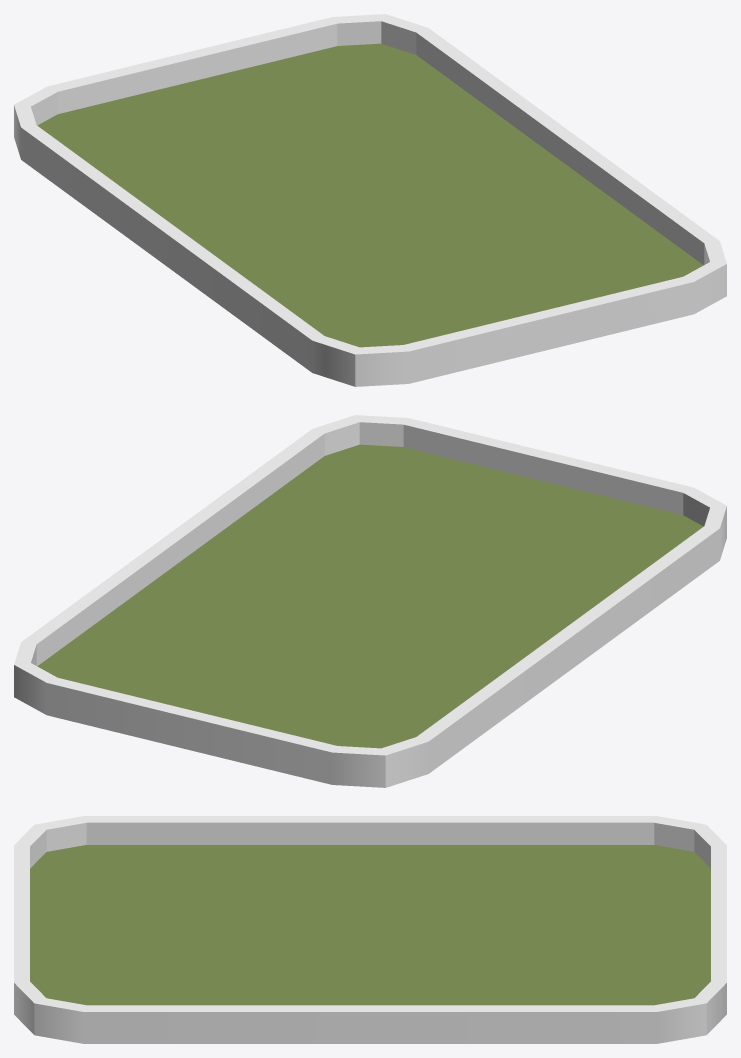
The model's file is rectangle block.fbx.
3 views of the same model, one above another, from view 1: azimuth 30°, elevation 25°; view 2: azimuth 150°, elevation 25°; view 3: azimuth 270°, elevation 25° (orthographic).
Visible parts, largest first — view 1: patter_de_maison_de_base5; view 2: patter_de_maison_de_base5; view 3: patter_de_maison_de_base5.
Boxes of the visible parts, left/top/right/bottom form: patter_de_maison_de_base5: left=14, top=14, right=726, bottom=386; patter_de_maison_de_base5: left=14, top=415, right=726, bottom=787; patter_de_maison_de_base5: left=14, top=816, right=726, bottom=1043.
Bounding box in the file's own units: 11394 × 866 × 17523.
